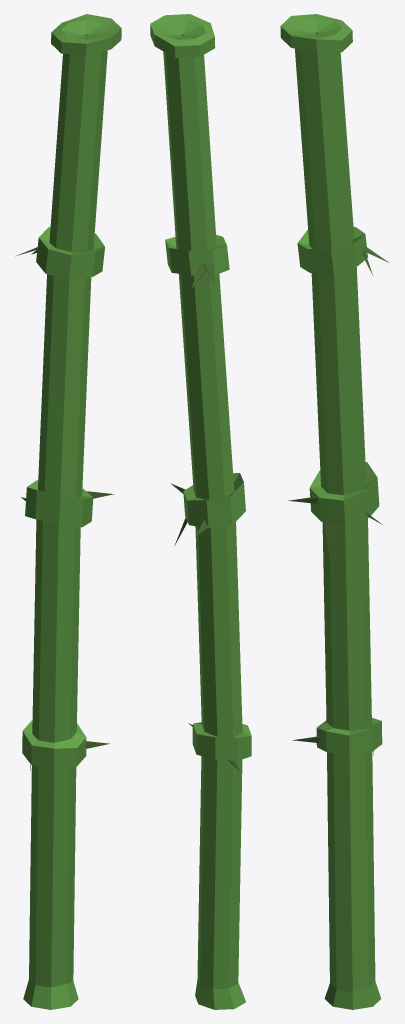
File: 0_bamboo1.fbx
3 views of the same model, side by side, from view 1: azimuth 90°, elevation 25°; view 2: azimuth 210°, elevation 25°; view 3: azimuth 270°, elevation 25° (orthographic). The views are drawn at different scales.
Parts seen in each view (by area): view 1: Bamboo.003; view 2: Bamboo.003; view 3: Bamboo.003.
Boxes of the visible parts, box(x1,y1,x2,y2) form: Bamboo.003: box(15, 14, 121, 1009); Bamboo.003: box(150, 14, 251, 1009); Bamboo.003: box(280, 14, 388, 1009).
Bounding box in the file's own units: 43.18 × 513 × 52.03.
